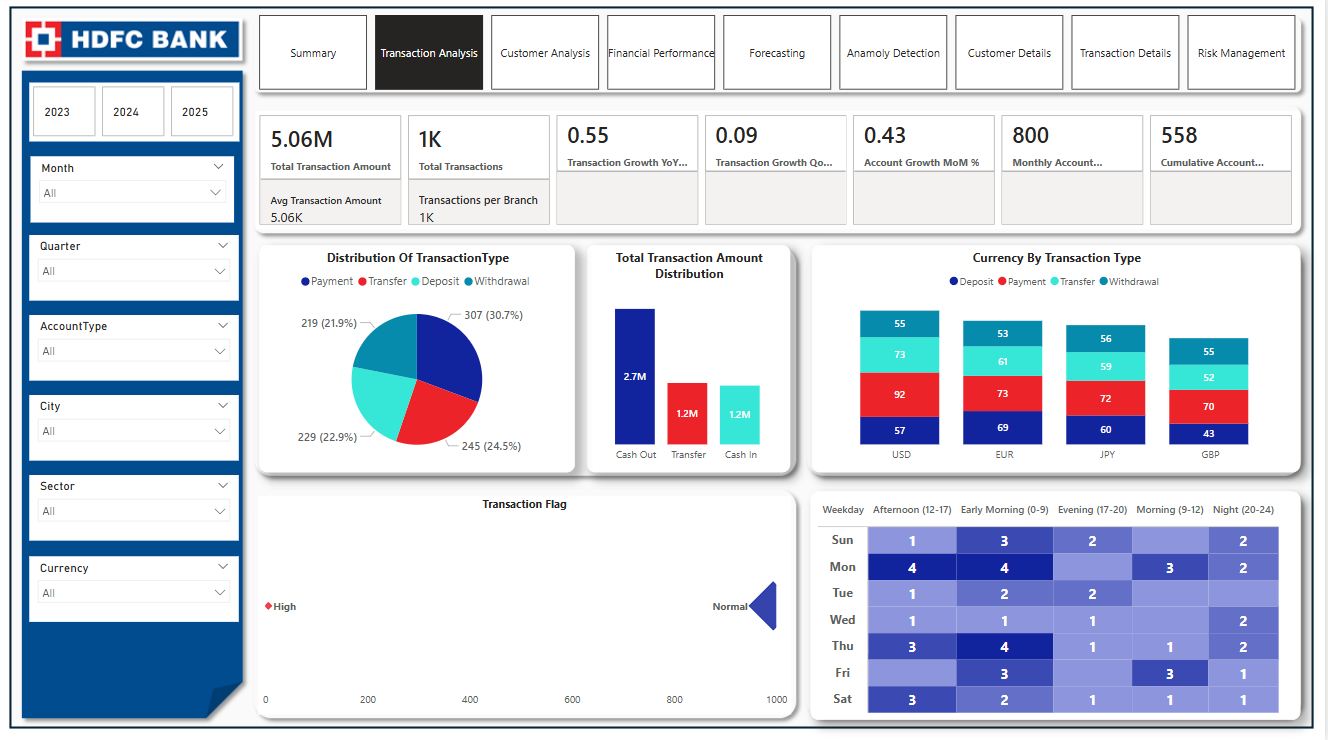

The page's visual inventory and layout, read from the dashboard file:
{"tool":"powerbi","page":{"name":" Transaction Insights","canvas":[1600,900],"ordinal":2},"visuals":[{"type":"cardVisual","fields":{"Data":["All Measures.Total Transaction Amount","All Measures.Total Transactions","All Measures.Total Balance","All Measures.Total Loan Amount","All Measures.Average Credit Score","All Measures.Total Accounts","All Measures.Average Interest Rate"]},"box":[236.8,13.6,1342.2,89],"z":0},{"type":"lineChart","title":"Transaction Over Time","fields":{"Y":["All Measures.Total Transaction Amount"],"Category":["CalendarTable.Date.Variation.Date Hierarchy.Year","CalendarTable.Date.Variation.Date Hierarchy.Quarter","CalendarTable.Date.Variation.Date Hierarchy.Month","CalendarTable.Date.Variation.Date Hierarchy.Day"]},"box":[236.7,113.3,671.7,266.7],"z":1000},{"type":"clusteredColumnChart","title":"Distribution Of TransactionType","fields":{"Category":["banking_transactions.TransactionType"],"Y":["All Measures.Total Transaction Amount","CountNonNull(banking_transactions.TransactionID)"]},"box":[238.3,393.3,670,241.7],"z":2000},{"type":"pivotTable","title":"Transaction Profile","fields":{"Rows":["CalendarTable.Weekday"],"Values":["All Measures.Total Transactions"],"Columns":["banking_transactions.Transaction Time Bucket"]},"box":[923.3,113.3,641.7,336.7],"z":3000},{"type":"scatterChart","title":"Top 10 Performing  Branches","fields":{"Category":["banking_transactions.BranchCode"],"X":["All Measures.Total Transaction Amount"],"Y":["All Measures.Total Transactions"],"Size":["All Measures.Total Transaction Amount"],"Series":["banking_transactions.BranchCode"]},"box":[238.3,648.3,670,228.3],"z":4000},{"type":"pivotTable","title":"Branch Performance","fields":{"Rows":["banking_transactions.BranchCode"],"Values":["All Measures.Total_Transactions","All Measures.Total Transaction Amount","All Measures.Branch Performance Score"]},"box":[923.3,463.3,641.7,416.7],"z":5000},{"type":"pageNavigator","box":[16.7,268.3,196.7,38.3],"z":6000},{"type":"pageNavigator","box":[16.7,381.7,196.7,43.3],"z":7000},{"type":"pageNavigator","box":[16.7,483.3,196.7,53.3],"z":8000},{"type":"pageNavigator","box":[16.7,590,196.7,50],"z":9000},{"type":"pageNavigator","box":[16.7,696.7,196.7,50],"z":10000},{"type":"pageNavigator","box":[16.7,808.3,196.7,40],"z":11000},{"type":"image","title":"Filter button","box":[83.3,118.3,61.7,48.3],"z":12501}]}

Visuals, with their boxes in screenshot pixels (x1, y1, x2, y2), scaled from the page's 1600x900 canvas onto the 1328x740 screenshot:
cardVisual - All Measures.Total Transaction Amount x All Measures.Total Transactions: detection(197, 11, 1311, 84)
"Transaction Over Time" lineChart: detection(196, 93, 754, 312)
"Distribution Of TransactionType" clusteredColumnChart: detection(198, 323, 754, 522)
"Transaction Profile" pivotTable: detection(766, 93, 1299, 370)
"Top 10 Performing  Branches" scatterChart: detection(198, 533, 754, 721)
"Branch Performance" pivotTable: detection(766, 381, 1299, 724)
pageNavigator: detection(14, 221, 177, 252)
pageNavigator: detection(14, 314, 177, 349)
pageNavigator: detection(14, 397, 177, 441)
pageNavigator: detection(14, 485, 177, 526)
pageNavigator: detection(14, 573, 177, 614)
pageNavigator: detection(14, 665, 177, 697)
"Filter button" image: detection(69, 97, 120, 137)
